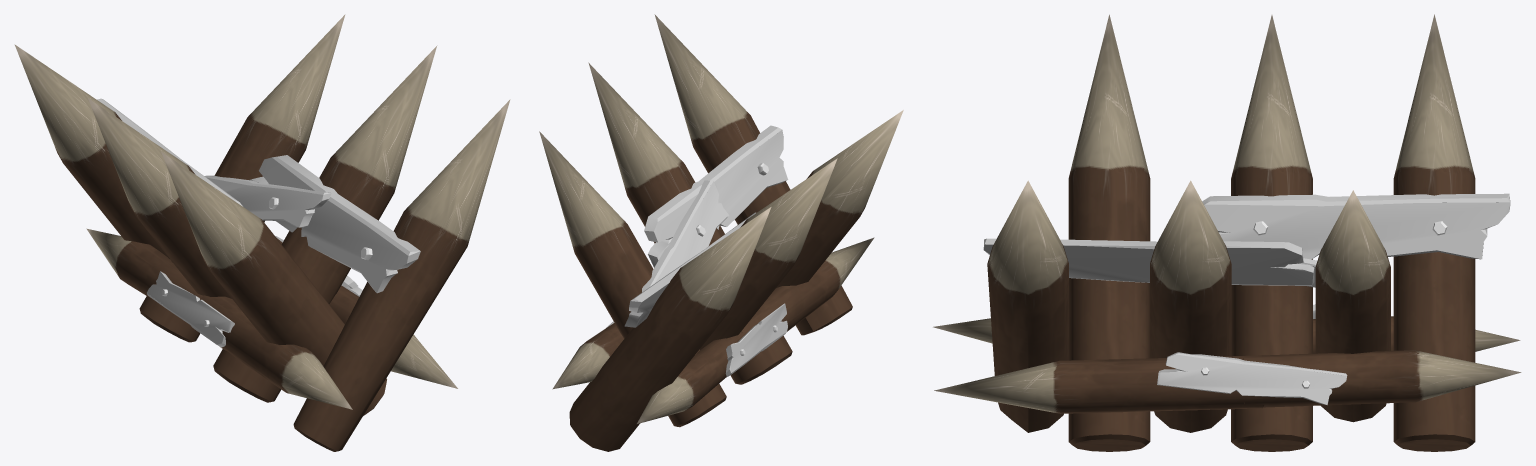
The model's file is Full_Barricade.fbx.
3 views of the same model, side by side, from view 1: azimuth 30°, elevation 25°; view 2: azimuth 150°, elevation 25°; view 3: azimuth 270°, elevation 25° (orthographic). The views are drawn at different scales.
Visible parts, largest first — view 1: wood_, wood_.003, wood_.001, wood_.002, wood_.005, wood_.004, wood_2_low.001, wood_low.003, wood_2_low.002, wood_low.004, wood_2_low.004, wood_low.001 (+1 smaller); view 2: wood_.005, wood_.002, wood_, wood_.001, wood_.004, wood_.003, wood_2_low.001, wood_low.003, wood_low.004, wood_2_low.002, wood_low.002, wood_2_low.004 (+1 smaller); view 3: wood_.003, wood_.005, wood_.004, wood_2_low, wood_, wood_.001, wood_low.001, wood_.002, wood_low.002, wood_2_low.001, wood_2_low.003, wood_low.003 (+1 smaller).
Boxes of the visible parts, x1=… form: wood_: x1=293, y1=99, x2=510, y2=451; wood_.003: x1=161, y1=151, x2=386, y2=415; wood_.001: x1=213, y1=45, x2=437, y2=402; wood_.002: x1=139, y1=14, x2=345, y2=342; wood_.005: x1=14, y1=44, x2=168, y2=257; wood_.004: x1=88, y1=98, x2=231, y2=298; wood_2_low.001: x1=249, y1=155, x2=420, y2=293; wood_low.003: x1=201, y1=295, x2=352, y2=409; wood_2_low.002: x1=204, y1=175, x2=331, y2=227; wood_low.004: x1=86, y1=228, x2=202, y2=300; wood_2_low.004: x1=147, y1=271, x2=234, y2=347; wood_low.001: x1=329, y1=285, x2=457, y2=388; wood_.005: x1=569, y1=207, x2=771, y2=451; wood_.002: x1=539, y1=131, x2=726, y2=427; wood_: x1=654, y1=14, x2=852, y2=335; wood_.001: x1=588, y1=62, x2=792, y2=384; wood_.004: x1=699, y1=158, x2=837, y2=349; wood_.003: x1=776, y1=110, x2=903, y2=287; wood_2_low.001: x1=644, y1=125, x2=788, y2=267; wood_low.003: x1=741, y1=237, x2=874, y2=332; wood_low.004: x1=637, y1=332, x2=747, y2=423; wood_2_low.002: x1=642, y1=180, x2=728, y2=292; wood_low.002: x1=552, y1=323, x2=623, y2=389; wood_2_low.004: x1=725, y1=303, x2=787, y2=376; wood_.003: x1=1068, y1=14, x2=1150, y2=451; wood_.005: x1=1393, y1=14, x2=1475, y2=451; wood_.004: x1=1231, y1=15, x2=1312, y2=451; wood_2_low: x1=1202, y1=193, x2=1510, y2=259; wood_: x1=987, y1=180, x2=1068, y2=432; wood_.001: x1=1150, y1=180, x2=1231, y2=432; wood_low.001: x1=934, y1=355, x2=1263, y2=413; wood_.002: x1=1315, y1=190, x2=1390, y2=422; wood_low.002: x1=1242, y1=350, x2=1521, y2=408; wood_2_low.001: x1=983, y1=238, x2=1314, y2=285; wood_2_low.003: x1=1157, y1=352, x2=1347, y2=405; wood_low.003: x1=933, y1=318, x2=992, y2=343.
Bounding box in the file's own units: 123 × 118 × 181.
